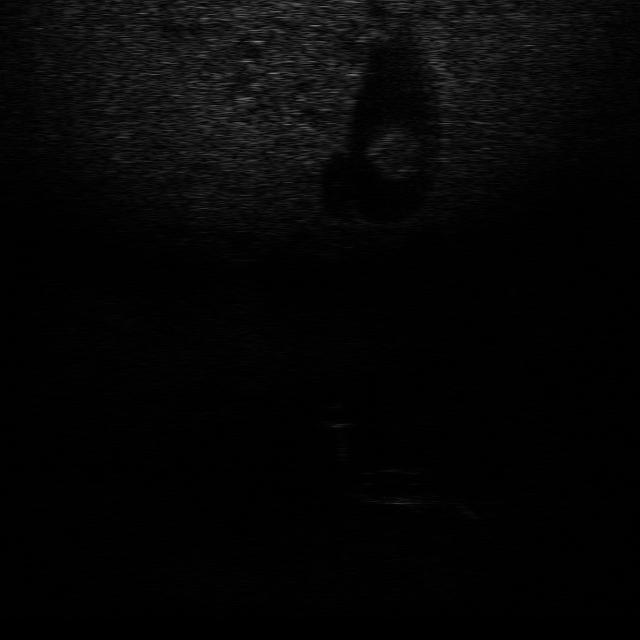ball: (315, 398, 364, 430)
tyre: (356, 464, 440, 508)
